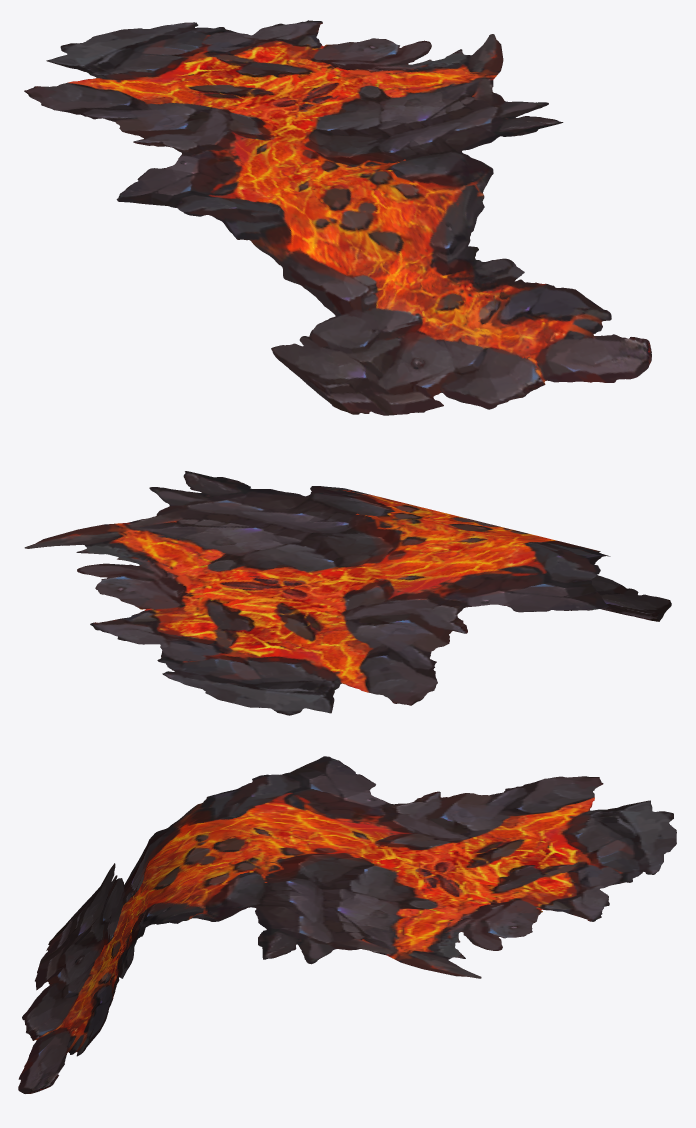
File: rongysy_dx006.FBX
3 renders of one model, top to bottom at view 1: azimuth 30°, elevation 25°; view 2: azimuth 150°, elevation 25°; view 3: azimuth 270°, elevation 25°, orthographic. The views are drawn at different scales.
Parts seen in each view (by area): view 1: rongysy_dx006; view 2: rongysy_dx006; view 3: rongysy_dx006.
Boxes of the visible parts, x1,y1,x2,y2 form: rongysy_dx006: [24, 20, 651, 415]; rongysy_dx006: [24, 471, 671, 715]; rongysy_dx006: [18, 756, 676, 1093].
Bounding box in the file's own units: 295 × 95.76 × 370.
